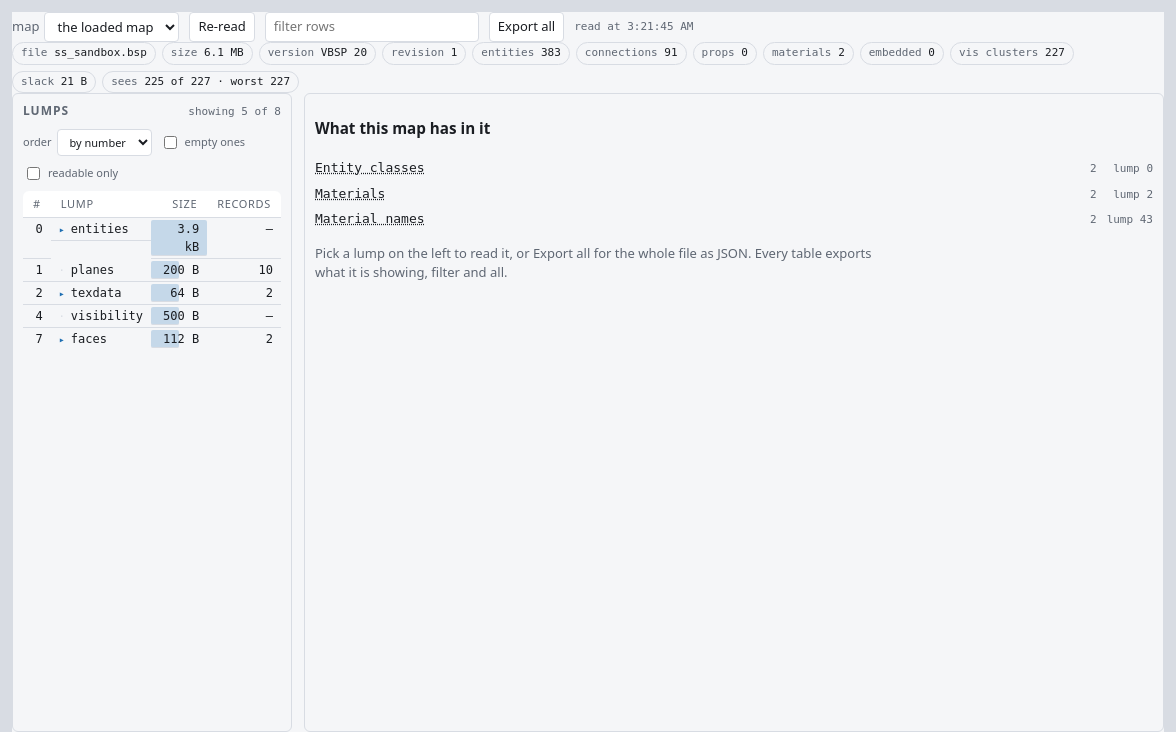
Test case: reading a lump › opens a lump by clicking its row
Expected: the text "ss_sandbox.bsp" is shown, [54, 46, 147, 59]
Click the row "2 texdata 64 B 2". click: (152, 293)
box: [23, 282, 281, 304]
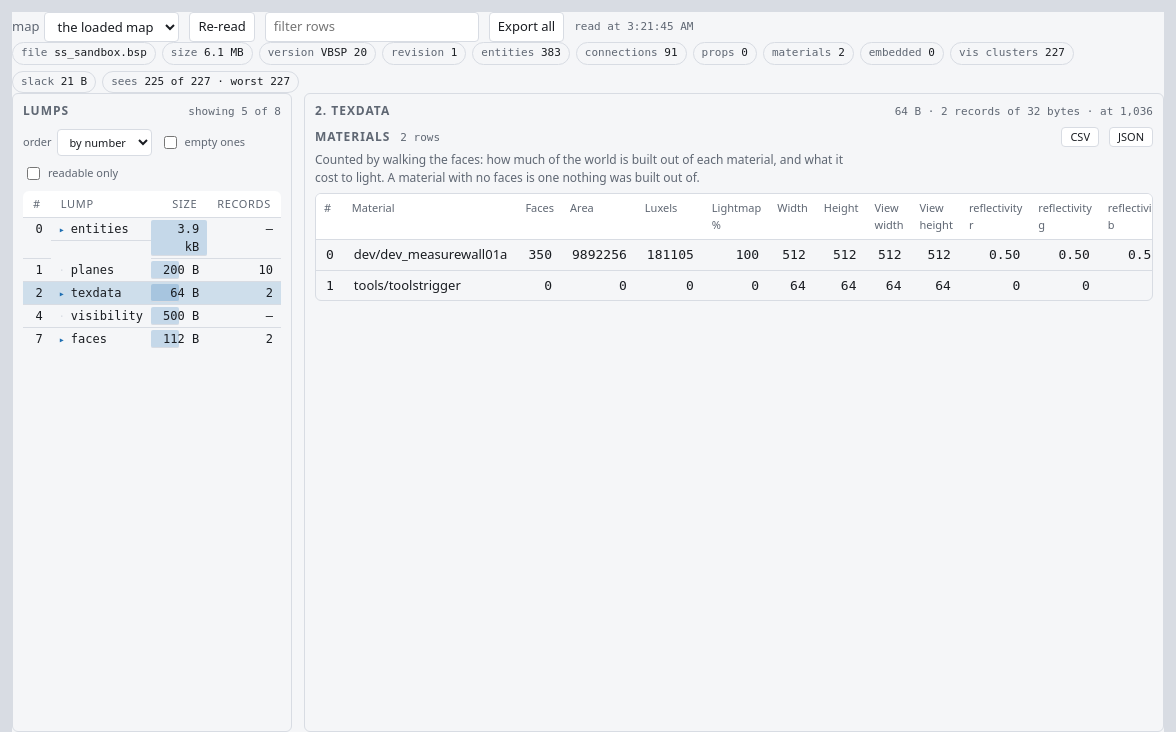
Now the heading "2. texdata" is shown, box [315, 102, 390, 120]
